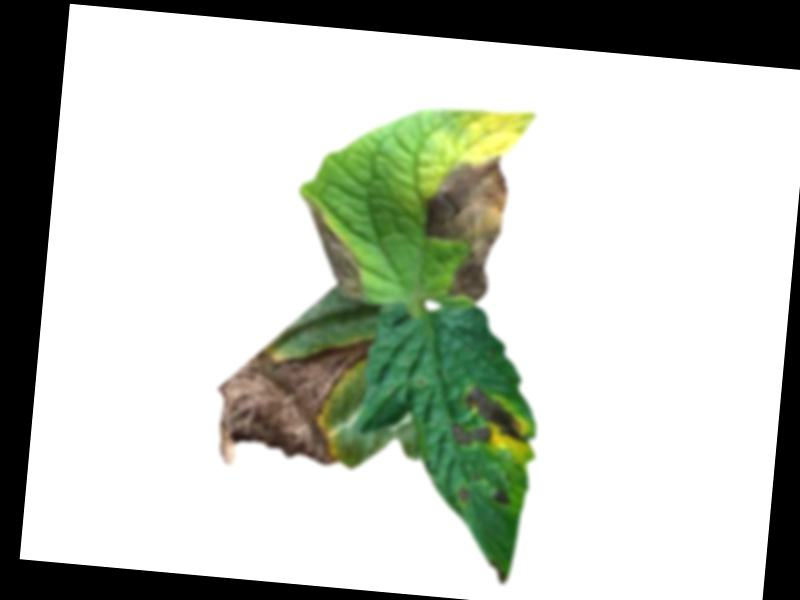Early_blight: (210, 323, 374, 480), (412, 149, 512, 305), (296, 194, 375, 301), (449, 382, 534, 451), (485, 558, 509, 585), (492, 486, 515, 505), (456, 487, 473, 504)
